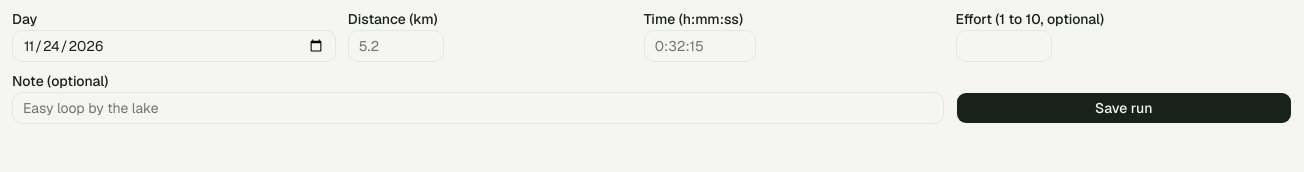
Scenario: RunForm › formats digits as a time on mobile and desktop
The image size is (1304, 172).
Later steps or results of the test are not shown.
Type "1" into the field labelled "Time (h:mm:ss)" at (700, 46), box x1=644 y1=30 x2=756 y2=62
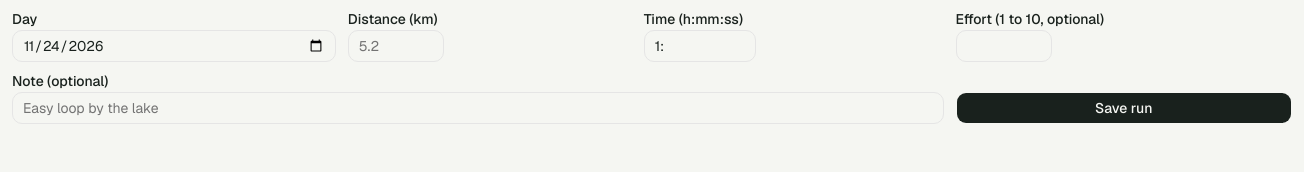
Expected: the field labelled "Time (h:mm:ss)" holds "1:"
Replace the text in the field labelled "Time (h:mm:ss)" with "1:32" at (700, 46), box x1=644 y1=30 x2=756 y2=62
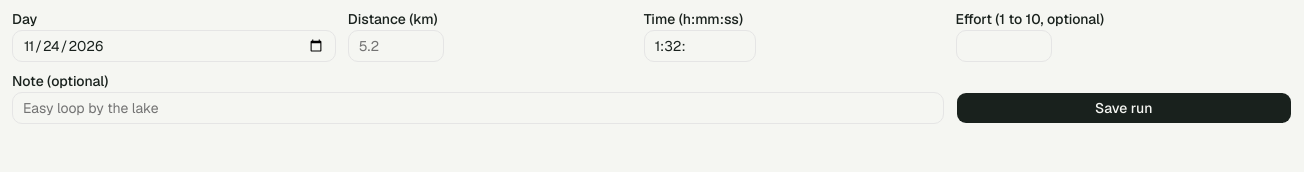
Expected: the field labelled "Time (h:mm:ss)" holds "1:32:", x1=644 y1=30 x2=756 y2=62
